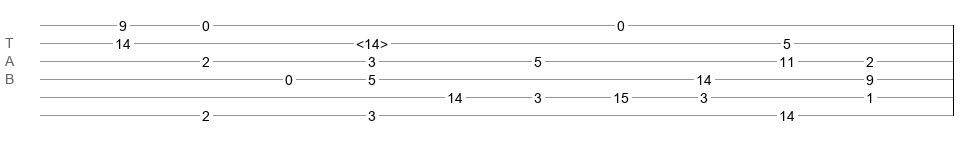0: (202, 18, 210, 28), (285, 72, 293, 82), (617, 18, 625, 28)
1: (866, 90, 874, 100)
11: (779, 54, 795, 64)
14: (115, 36, 131, 46), (447, 90, 463, 100), (696, 72, 712, 82), (779, 108, 795, 118)
15: (613, 90, 629, 100)
2: (202, 54, 210, 64), (202, 108, 210, 118), (866, 54, 874, 64)
3: (368, 54, 376, 64), (368, 108, 376, 118), (534, 90, 542, 100), (700, 90, 708, 100)
5: (368, 72, 376, 82), (534, 54, 542, 64), (783, 36, 791, 46)
9: (119, 18, 127, 28), (866, 72, 874, 82)
harmonic: (356, 36, 388, 46)
